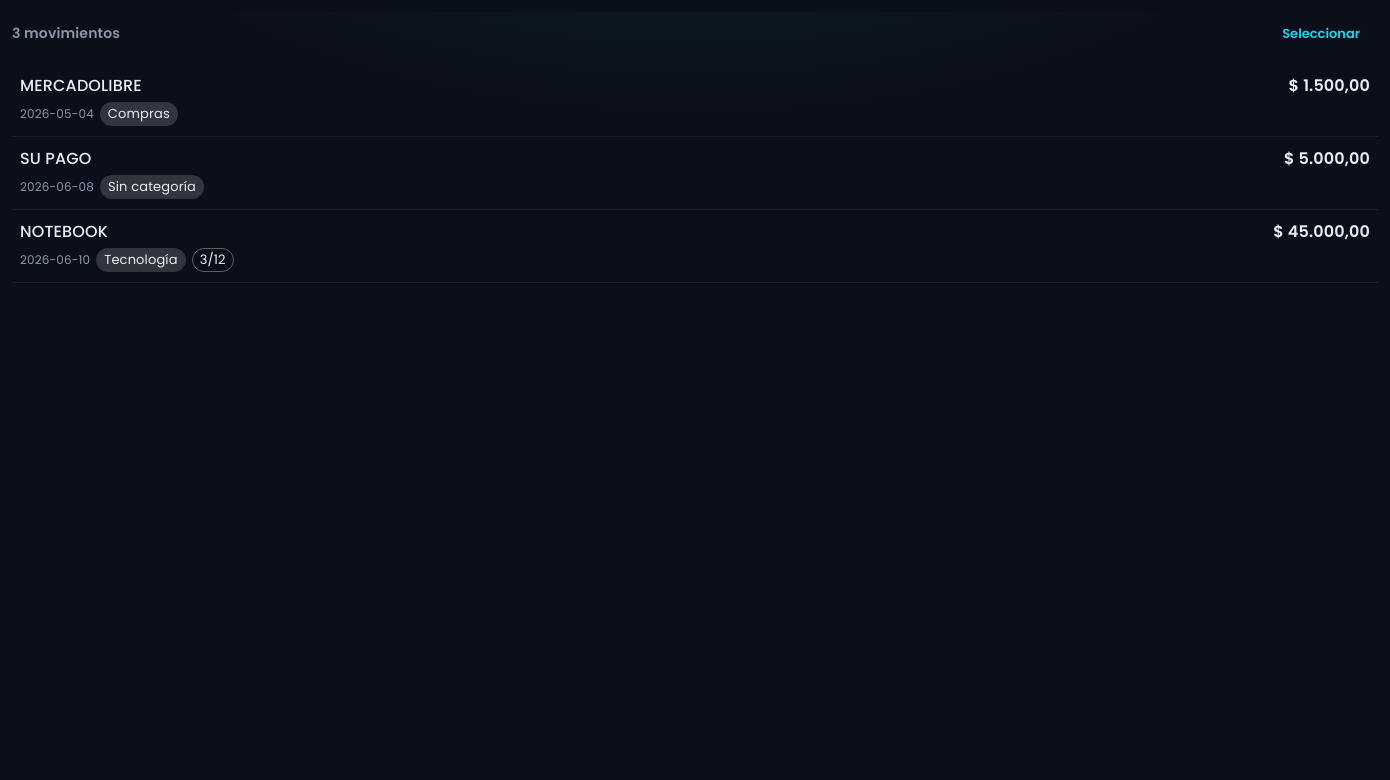
TransactionsList › «Cancelar» sale del modo selección sin borrar
Click the button "Seleccionar".
click(1321, 34)  # box [1264,12,1378,56]
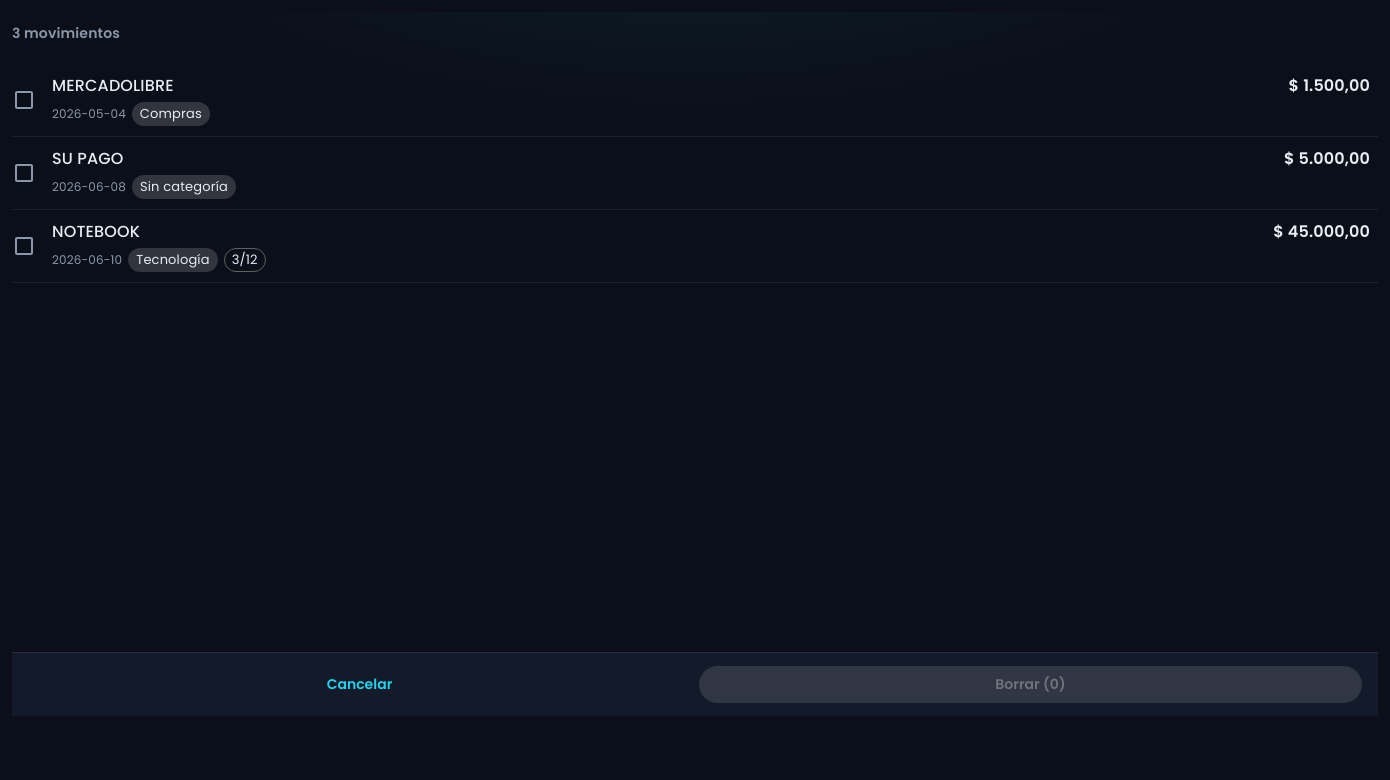
Click the checkbox named "seleccionar MERCADOLIBRE".
click(24, 100)  # box [12,88,36,112]
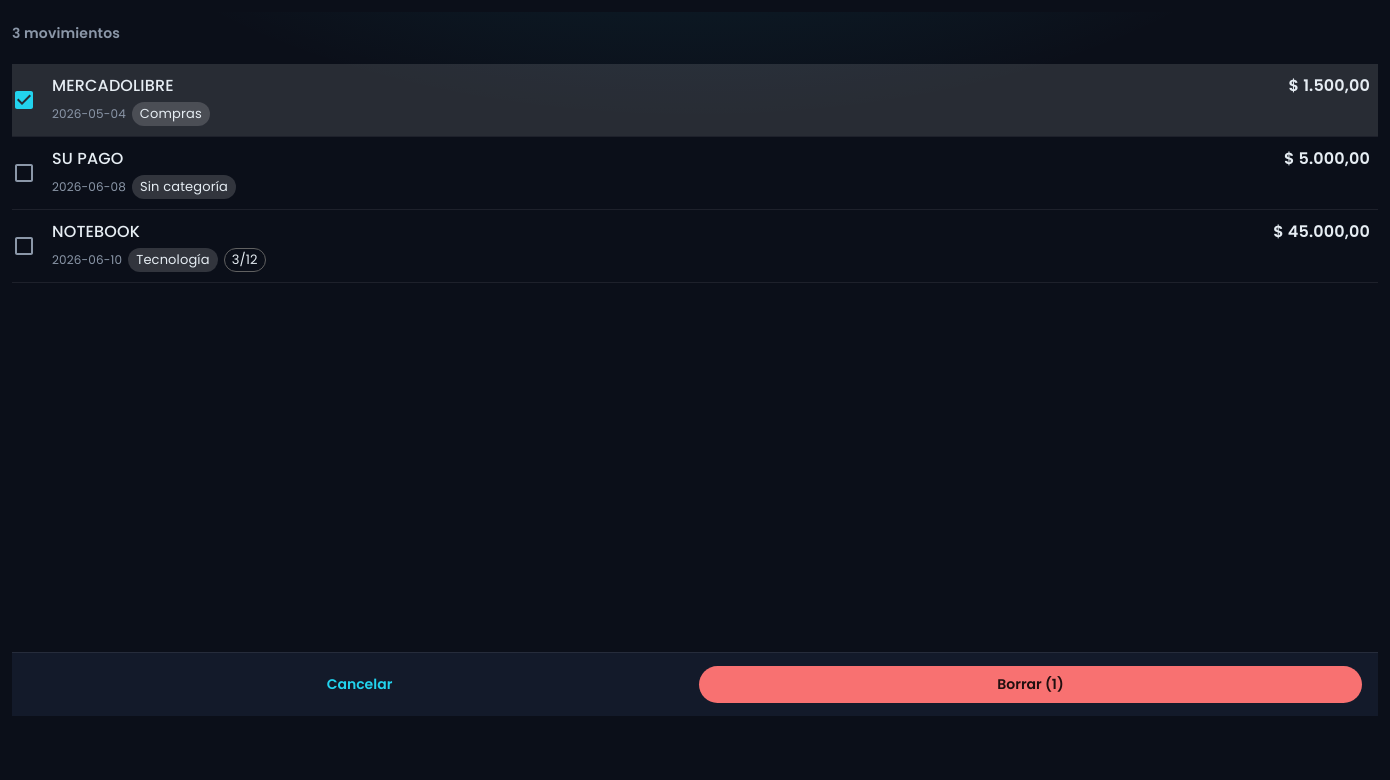
Click the button "Cancelar".
click(360, 685)  # box [28,666,691,703]
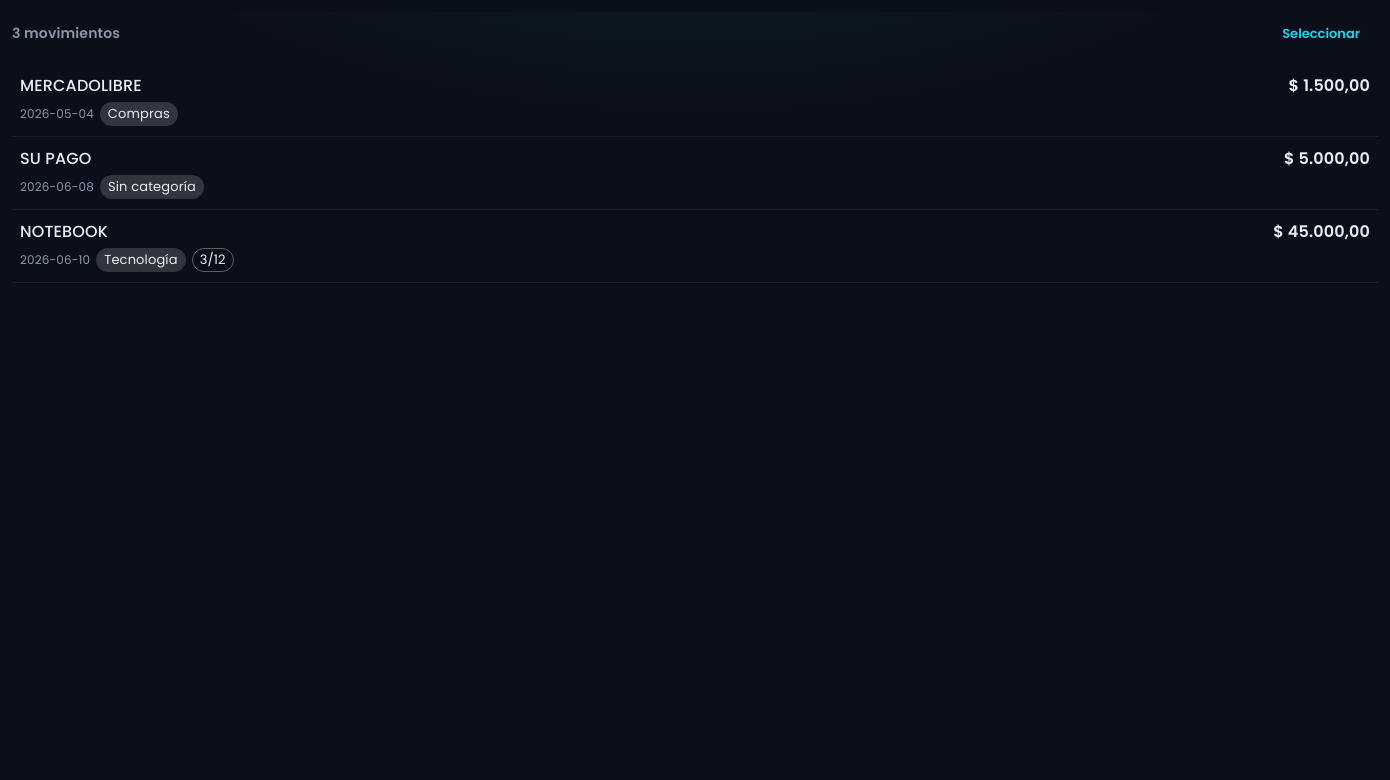
Check: the element "selección" is gone
